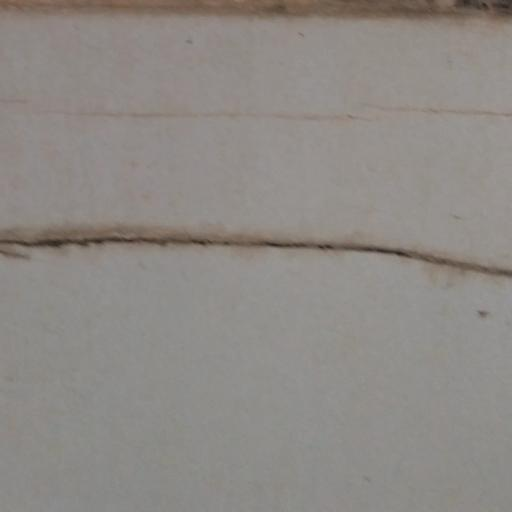minor_crack: (0, 179, 512, 300), (0, 73, 512, 136)
